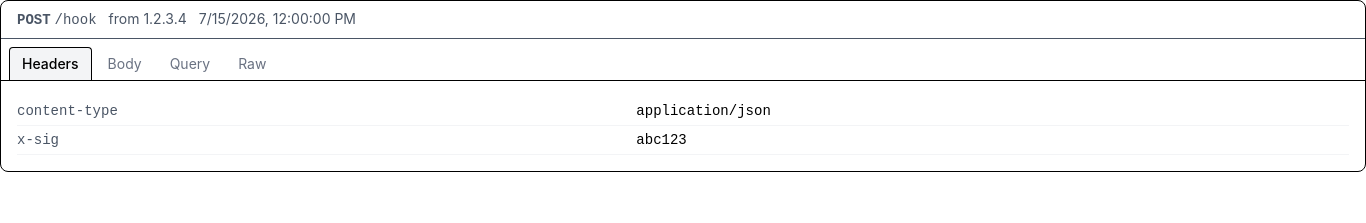
it: RequestDetail › shows truncation warning when body truncated
Click the button "Body".
click(125, 64)  # box [96, 47, 154, 80]
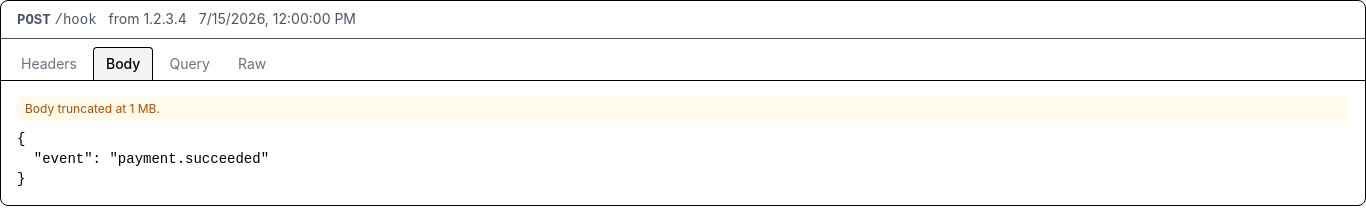
Result: the text "Body truncated at 1 MB." is shown at [17, 97, 1349, 121]
